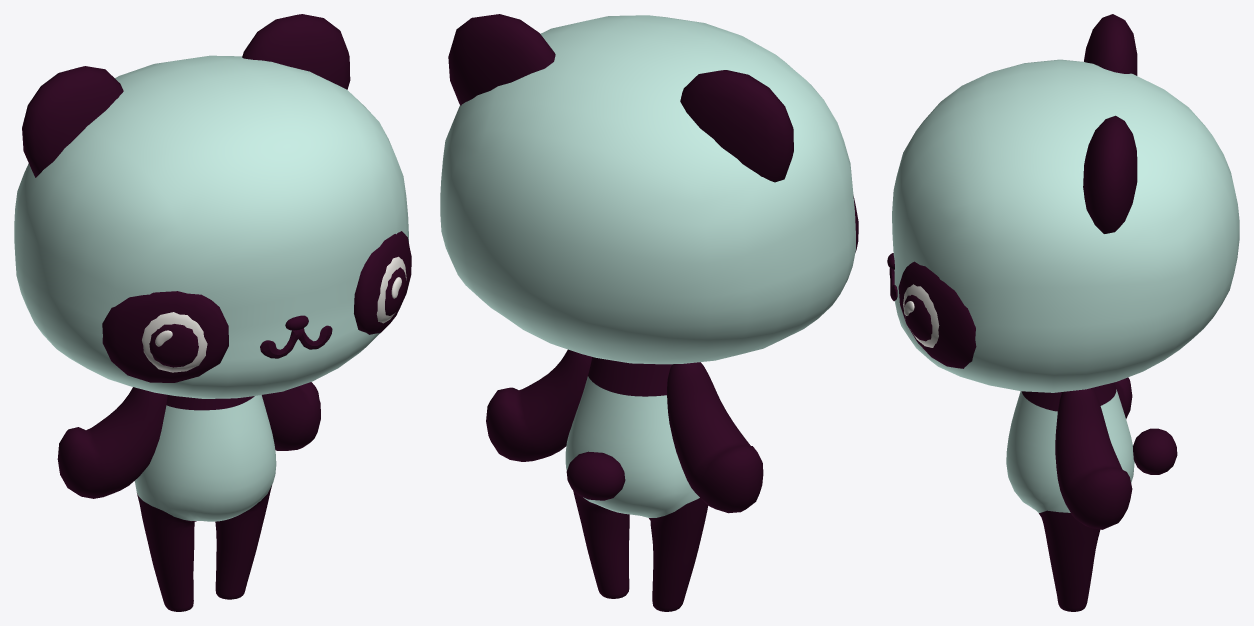
Rendered from Panpan.fbx.
The picture shows the model from 3 angles, left to right: view 1: azimuth 30°, elevation 25°; view 2: azimuth 150°, elevation 25°; view 3: azimuth 270°, elevation 25°; orthographic projection. The views are drawn at different scales.
Visible parts, largest first — view 1: Pan; view 2: Pan; view 3: Pan.
Boxes of the visible parts, box(x1,y1,x2,y2) form: Pan: box(14, 14, 411, 611); Pan: box(440, 14, 858, 611); Pan: box(887, 14, 1239, 611).
Bounding box in the file's own units: 110 × 163 × 99.46.
